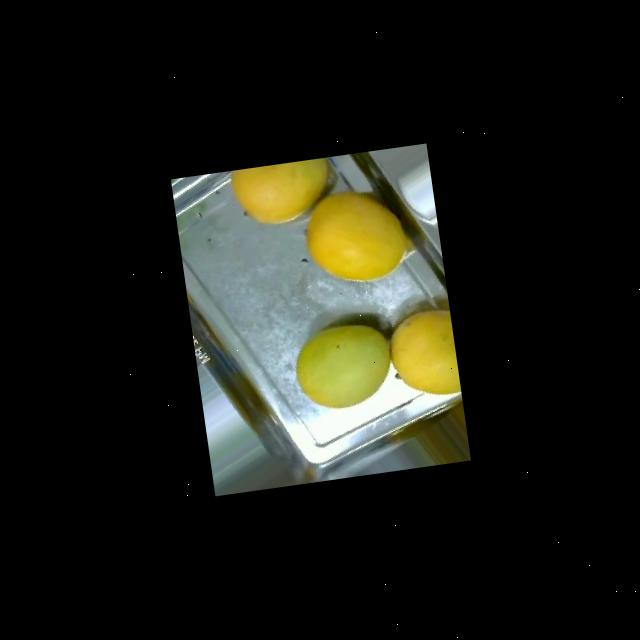Mango: (298, 183, 417, 289), (288, 318, 395, 414), (228, 158, 334, 230), (384, 307, 459, 401)
